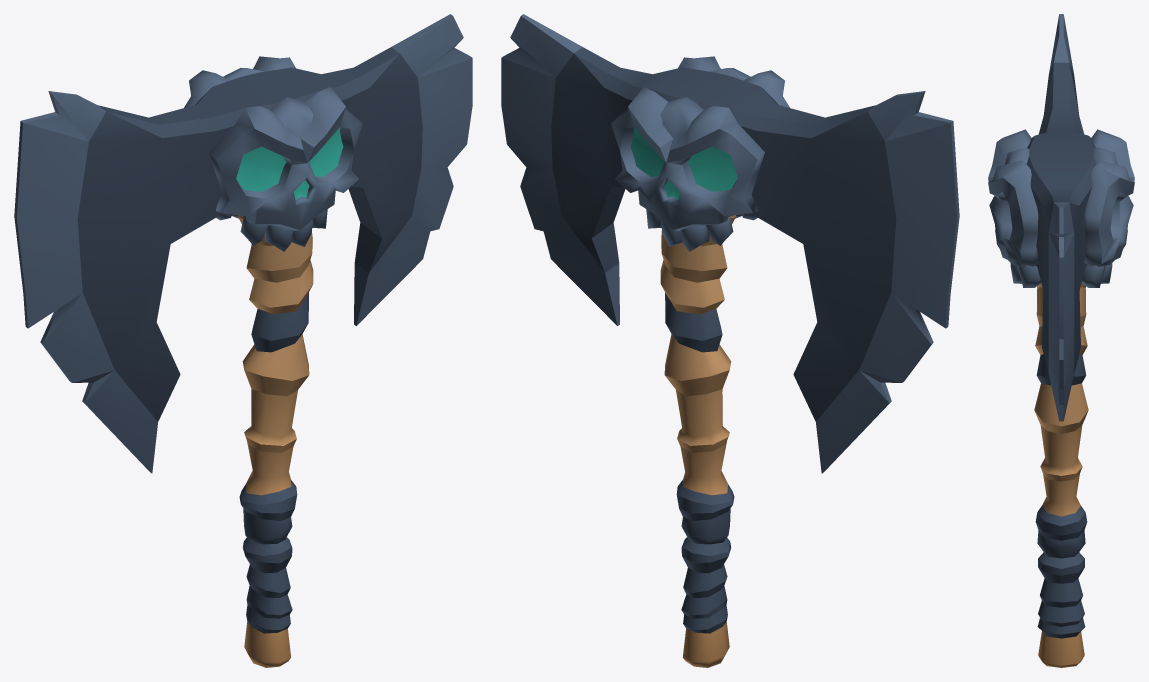
The model's file is Axe_3.fbx.
3 renders of one model, left to right at view 1: azimuth 30°, elevation 25°; view 2: azimuth 150°, elevation 25°; view 3: azimuth 270°, elevation 25°, orthographic. The views are drawn at different scales.
Visible parts, largest first — view 1: Axe_3; view 2: Axe_3; view 3: Axe_3.
Part boxes in pixels (x1,y1,x2,y2): Axe_3: (14, 14, 472, 667); Axe_3: (501, 14, 959, 667); Axe_3: (988, 14, 1134, 667).
Size of the model in its own units: 77.27 by 101 by 24.19.
